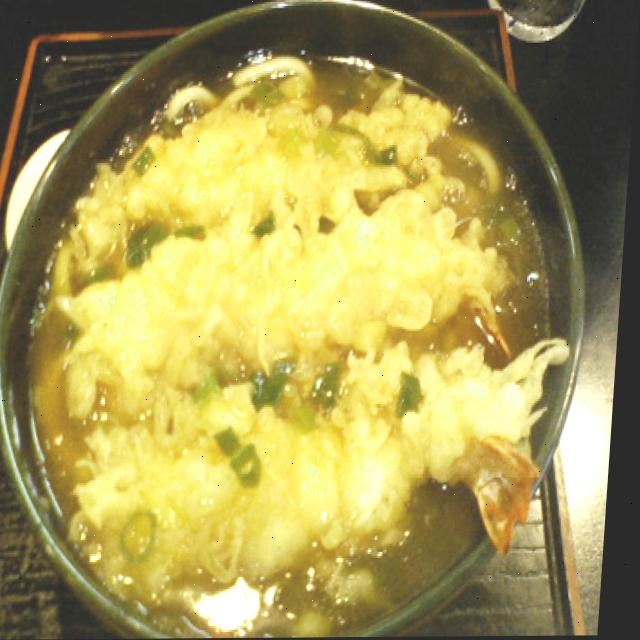面条主食: (10, 37, 576, 640)
